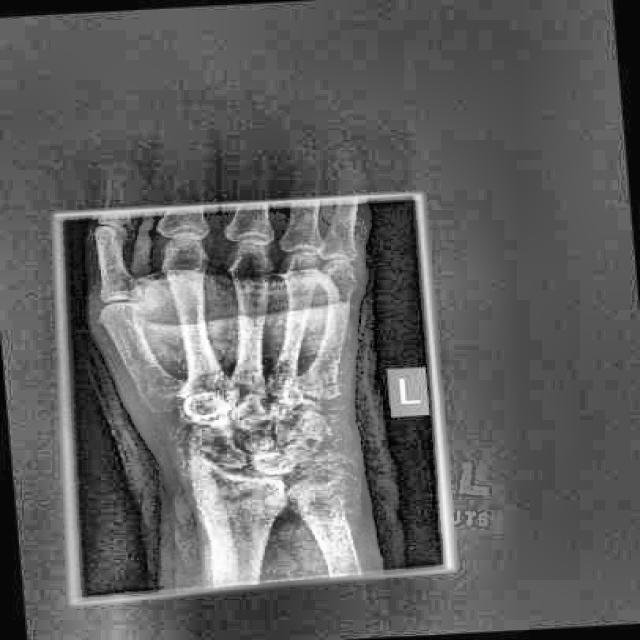fingers positive: (177, 469, 289, 522), (221, 413, 287, 452)
